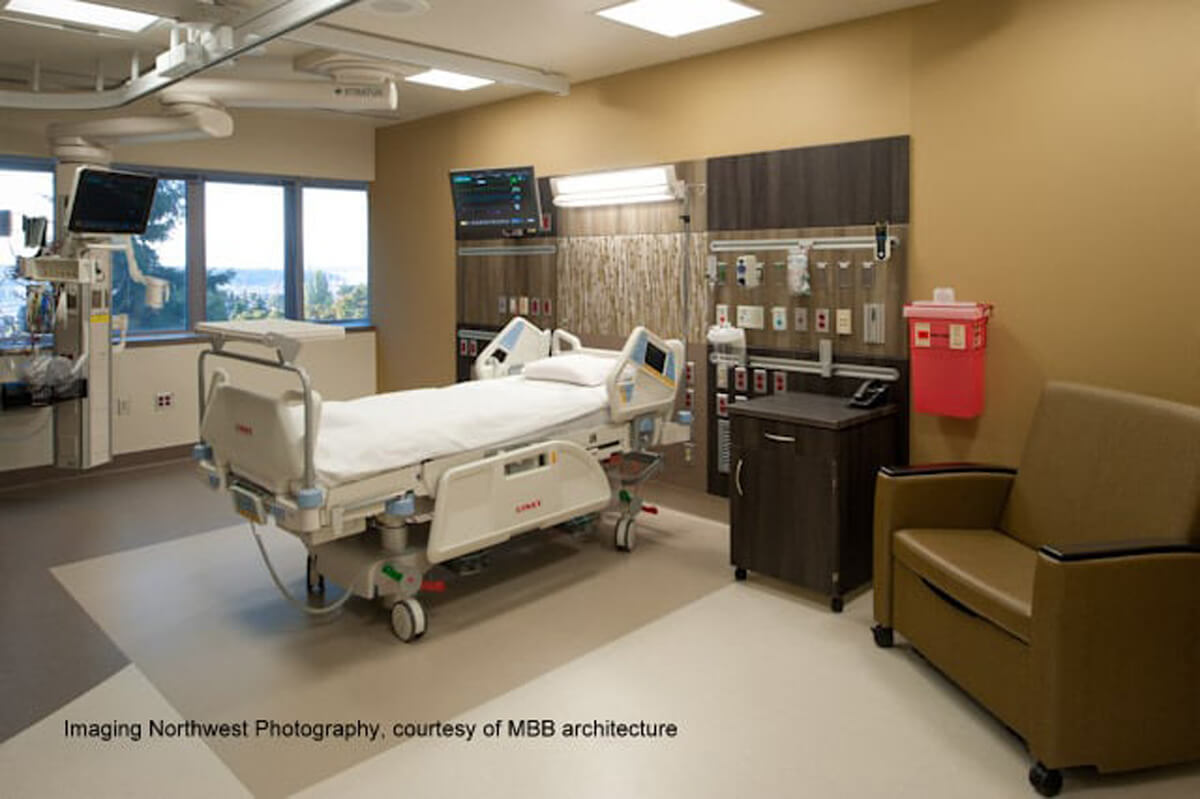TV: (66, 167, 158, 233)
bedrail: (423, 439, 610, 562), (606, 327, 684, 423), (471, 316, 550, 380)
bedside_monitor: (450, 165, 543, 238)
bedside_table: (727, 389, 904, 615)
foot_board: (200, 368, 323, 496)
handle: (733, 455, 745, 498)
hospital_bed: (199, 316, 684, 643)
iv_pole: (666, 183, 706, 336)
medical_waste_container: (902, 300, 994, 417)
overbed_table: (192, 311, 350, 378)
sofa: (881, 383, 1155, 796)
telephone: (848, 375, 890, 408)
